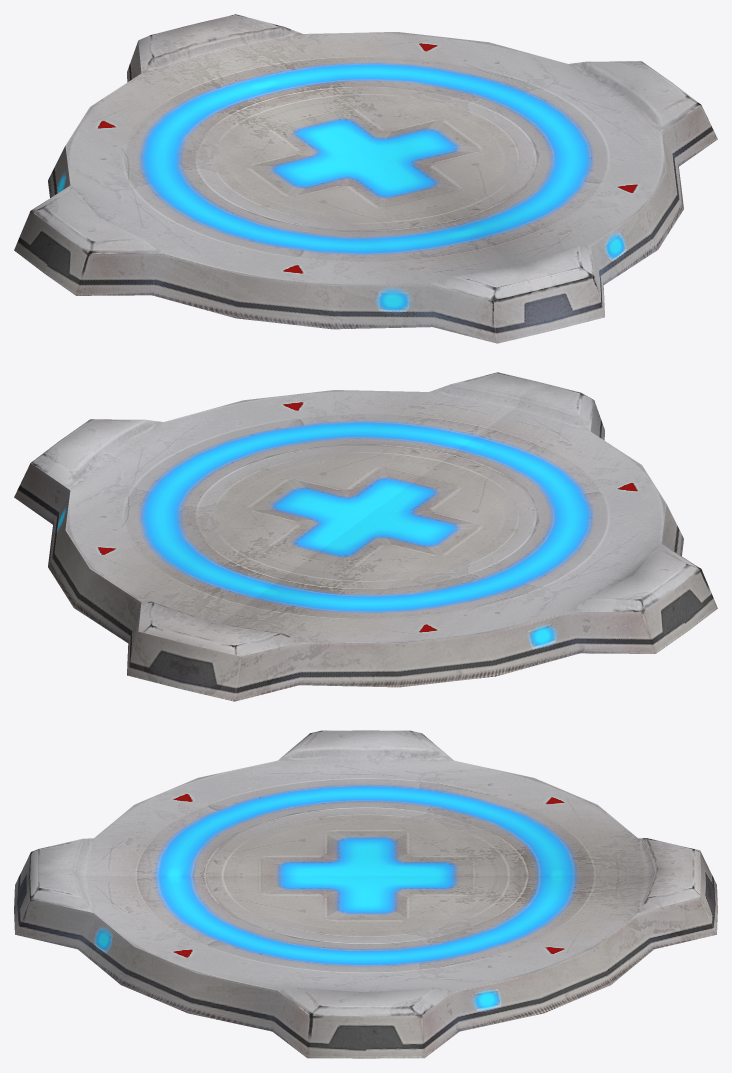
The model's file is dipan.FBX.
3 renders of one model, top to bottom at view 1: azimuth 30°, elevation 25°; view 2: azimuth 150°, elevation 25°; view 3: azimuth 270°, elevation 25°, orthographic. The views are drawn at different scales.
Parts seen in each view (by area): view 1: polySurface388; view 2: polySurface388; view 3: polySurface388.
Part boxes in pixels (x1=…): polySurface388: x1=14, y1=14, x2=717, y2=343; polySurface388: x1=14, y1=372, x2=717, y2=701; polySurface388: x1=14, y1=730, x2=717, y2=1058.
Bounding box in the file's own units: 0.9789 × 0.0635 × 0.9789.
